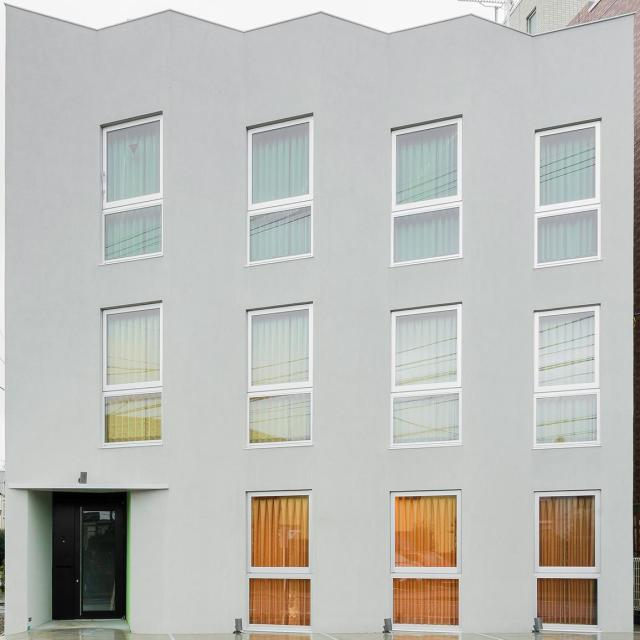door: (54, 494, 128, 621)
wall: (6, 0, 634, 637)
windows: (388, 118, 461, 268), (389, 492, 462, 634), (390, 301, 460, 448), (534, 120, 600, 268), (244, 491, 312, 634), (536, 303, 600, 447), (249, 114, 310, 265), (102, 114, 163, 264), (536, 492, 601, 632), (101, 302, 162, 447), (249, 305, 311, 444)
